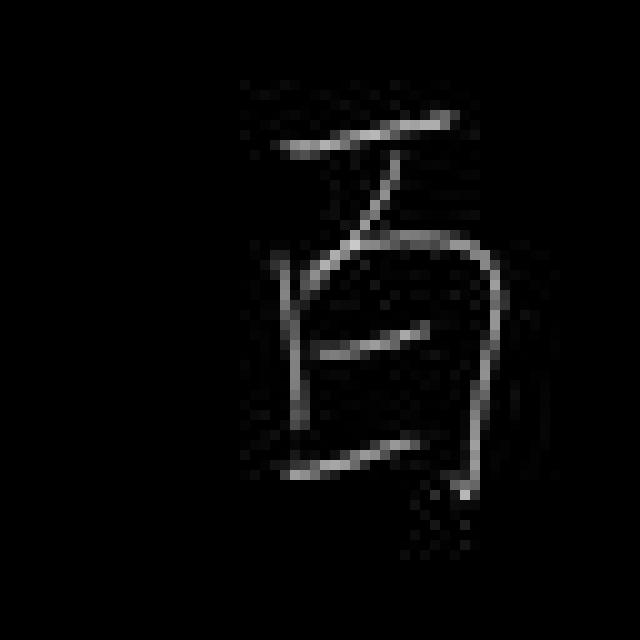100 -a hundred-: (255, 100, 514, 512)
